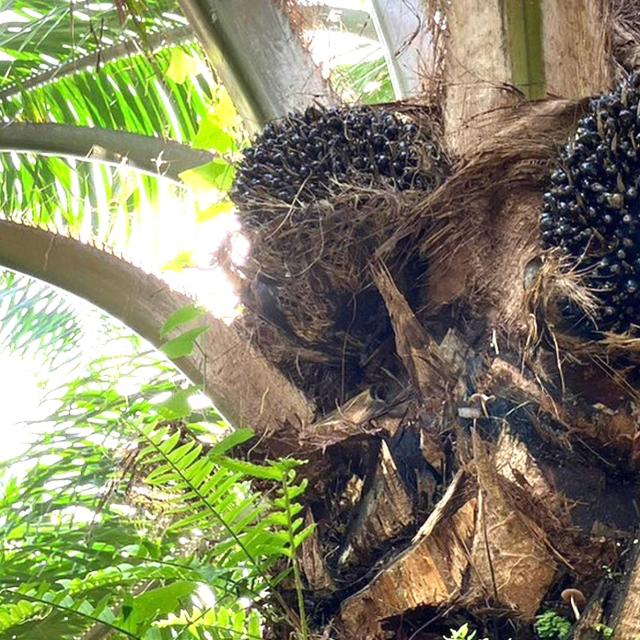unripe: (228, 106, 443, 286)
